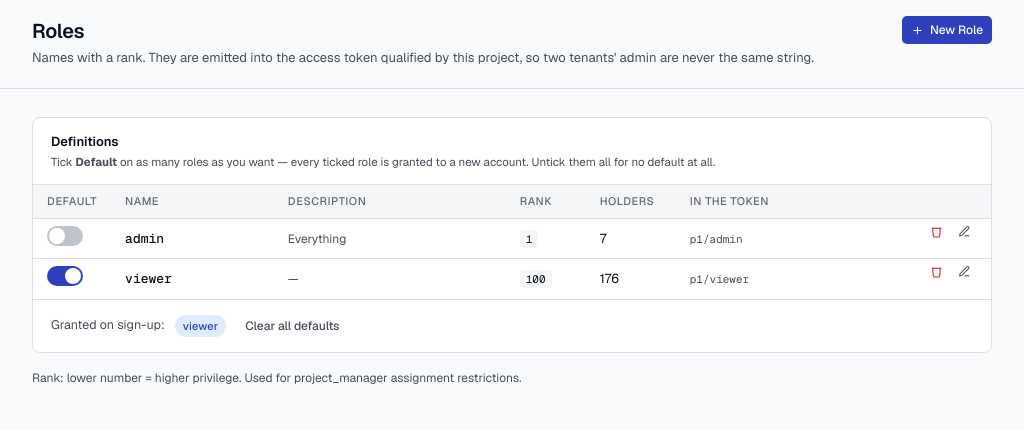
Scenario: the roles granted on sign-up › says so, and puts the tick back, when the save is refused
Check: the text "admin" is shown, box [125,230,164,247]
Click the checkbox named "Grant admin on sign-up": (65,236) [47,226,83,246]
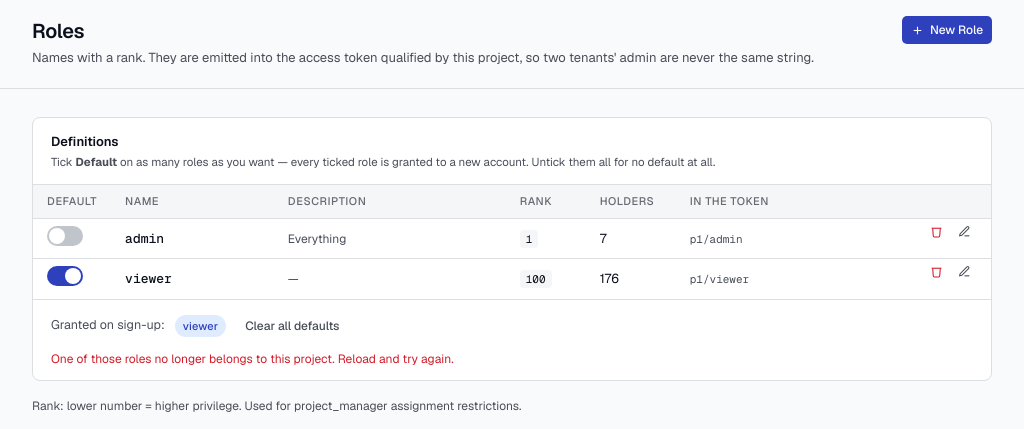
Check: the text "no longer belongs to this project" is shown, box [51,351,454,367]
